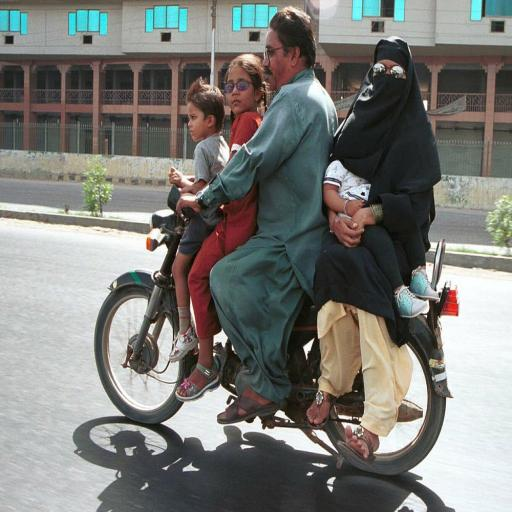overloading: (92, 177, 460, 476)
